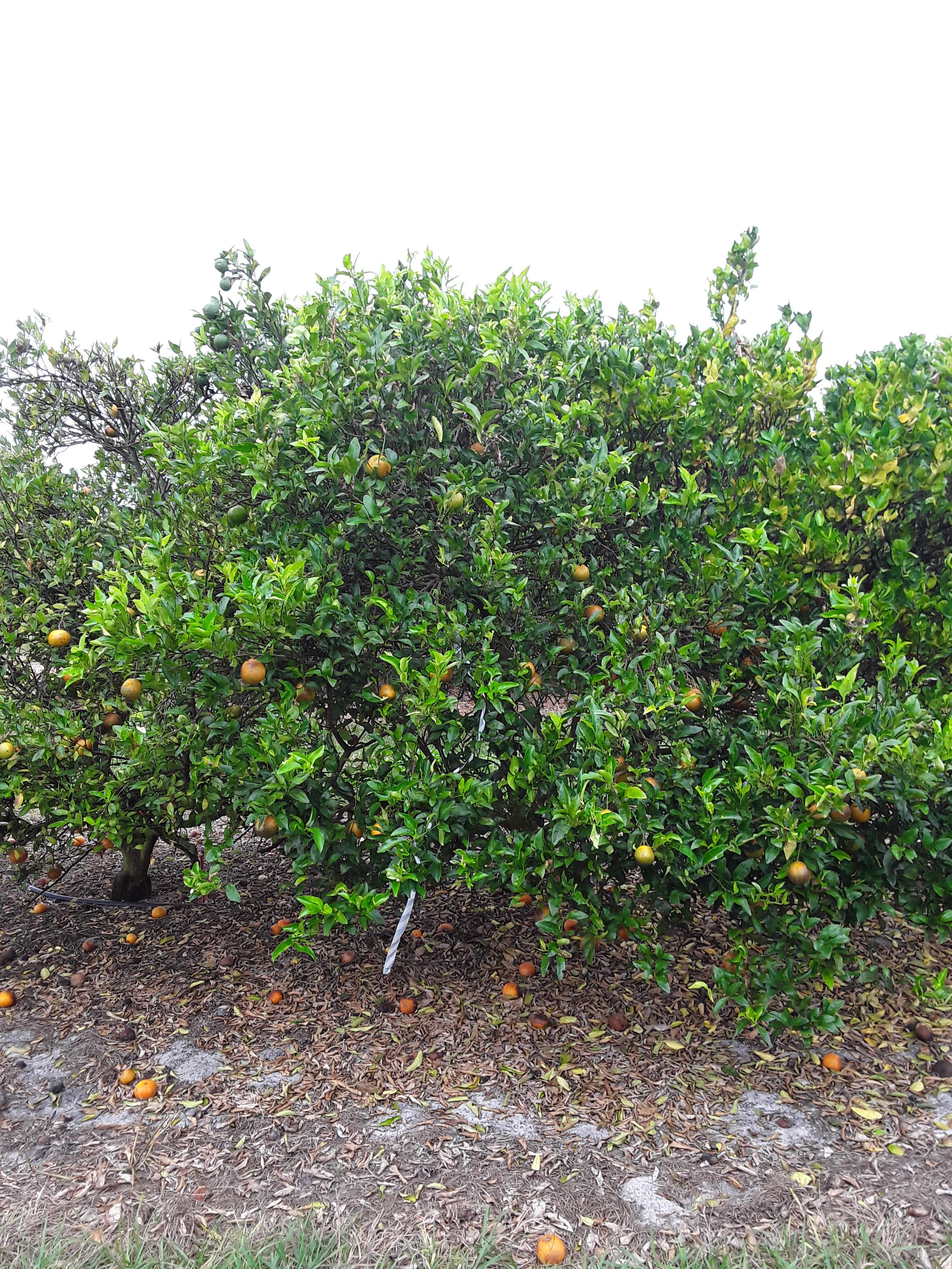fruit_on_ground: (734, 650, 768, 681), (541, 510, 575, 538), (364, 452, 395, 481), (239, 656, 268, 685), (729, 688, 758, 715), (784, 859, 812, 886), (58, 662, 87, 688), (439, 486, 468, 512), (788, 591, 815, 618), (609, 753, 635, 781), (740, 834, 767, 860), (291, 680, 318, 706), (254, 812, 281, 838), (631, 841, 657, 868), (118, 675, 144, 701), (626, 618, 651, 645), (802, 798, 828, 823), (681, 687, 706, 713), (366, 818, 393, 842), (704, 614, 732, 637), (744, 635, 772, 658), (840, 833, 866, 857), (595, 804, 622, 827), (427, 662, 454, 685), (225, 502, 250, 526), (849, 800, 874, 824), (465, 437, 491, 460), (520, 670, 543, 696), (843, 764, 869, 787), (46, 626, 72, 649), (344, 817, 368, 841), (583, 601, 607, 625), (70, 735, 95, 758), (208, 330, 234, 352), (674, 753, 699, 775), (624, 358, 647, 381), (639, 772, 663, 794), (744, 895, 769, 916), (569, 562, 592, 584), (516, 659, 538, 682), (828, 803, 850, 825), (612, 767, 636, 787), (6, 844, 28, 865), (376, 681, 398, 702), (200, 301, 221, 323), (210, 254, 233, 274), (555, 635, 576, 656), (102, 711, 125, 730), (189, 368, 210, 388), (225, 701, 245, 720), (215, 274, 235, 293), (9, 738, 26, 758), (0, 738, 15, 760), (104, 402, 121, 420), (103, 422, 119, 438)
fruit_on_tree: (534, 1231, 569, 1267), (718, 951, 744, 974), (133, 1077, 159, 1100), (606, 1009, 630, 1033), (929, 1058, 952, 1080), (821, 1050, 844, 1072), (527, 1011, 551, 1032), (913, 1021, 935, 1042), (499, 979, 520, 1001), (559, 916, 583, 935), (396, 995, 417, 1016), (612, 923, 633, 943), (517, 959, 537, 979), (115, 1025, 136, 1043), (1, 945, 18, 966), (117, 1067, 136, 1085), (0, 988, 16, 1009), (533, 902, 551, 920), (69, 969, 87, 987), (339, 948, 357, 965), (266, 988, 284, 1005), (218, 952, 236, 968), (516, 890, 534, 906), (276, 916, 294, 932), (150, 904, 168, 920), (46, 865, 63, 881), (436, 920, 455, 934), (268, 922, 284, 937), (410, 926, 424, 940), (34, 875, 49, 888), (71, 834, 86, 847), (80, 939, 95, 952), (33, 903, 48, 916), (124, 931, 138, 944)
